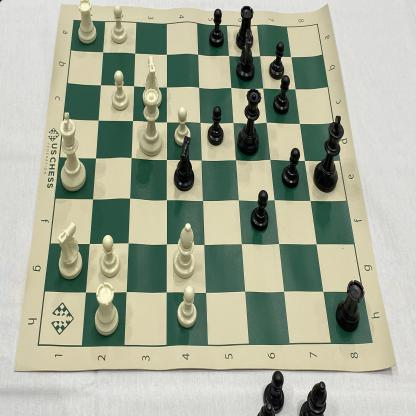black-king: (314, 111, 345, 194)
black-knight: (171, 135, 199, 193), (236, 29, 254, 82)
black-pawn: (280, 145, 302, 191), (206, 105, 226, 148), (251, 188, 270, 233), (207, 5, 226, 49), (272, 73, 291, 116), (267, 39, 285, 79)
black-queen: (236, 86, 263, 161)
black-rook: (334, 275, 365, 335), (235, 5, 256, 52)
white-bishop: (170, 221, 198, 281)
white-king: (56, 109, 89, 193)
white-knight: (51, 218, 86, 282), (141, 53, 164, 109)
white-pawn: (173, 282, 199, 333), (108, 69, 133, 113), (99, 232, 121, 279), (172, 101, 192, 147), (108, 5, 129, 46)
white-queen: (139, 88, 166, 159)
white-rook: (91, 280, 121, 337), (74, 0, 98, 46)
